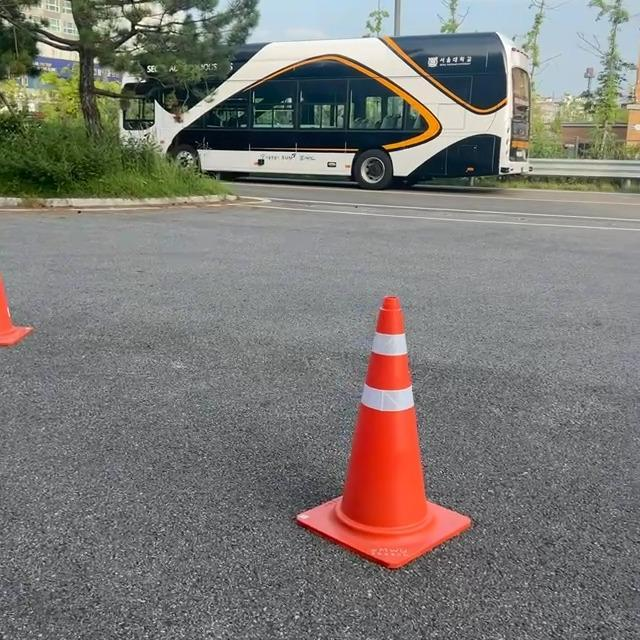fallen_object: (218, 264, 541, 640), (0, 232, 49, 360)
